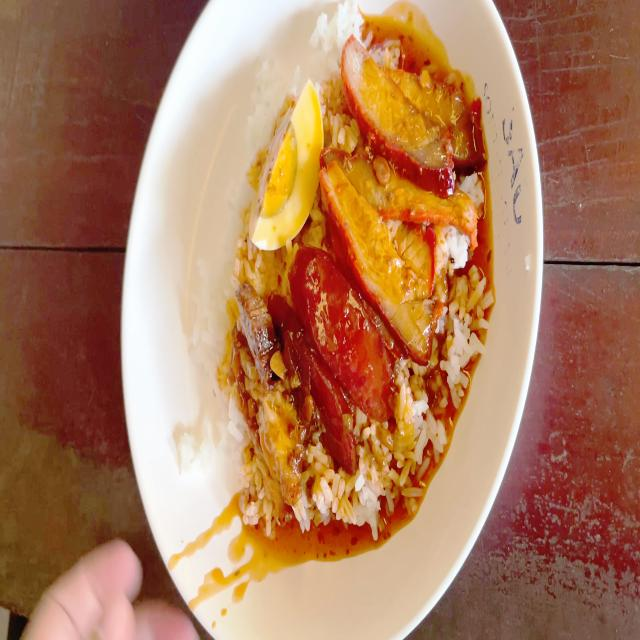boiled_egg: (251, 86, 321, 245)
chainese_sausage: (283, 252, 389, 453)
crispy_pork: (233, 287, 300, 499)
red_pork: (329, 38, 469, 332)
red_pork_and_crispy_pork: (195, 7, 476, 511)
rice: (395, 328, 479, 476), (198, 264, 229, 444), (308, 6, 369, 39)
